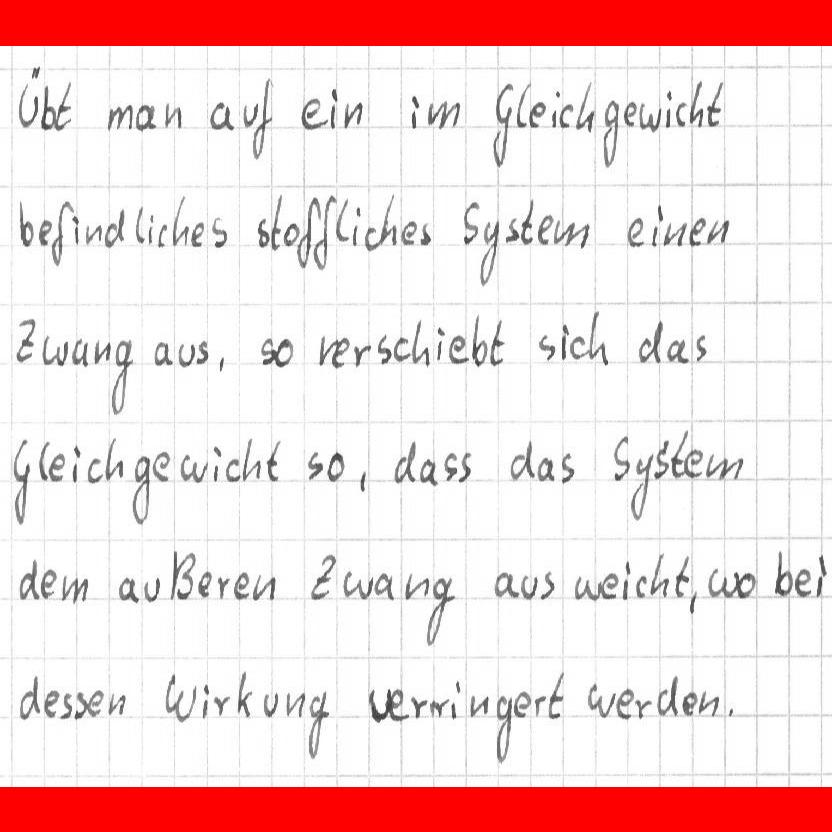Char: (423, 573, 456, 646), (108, 334, 134, 417), (251, 79, 275, 159), (304, 687, 330, 760), (489, 85, 513, 164), (164, 669, 194, 726), (295, 197, 319, 268), (10, 444, 31, 524), (307, 552, 338, 603), (479, 220, 501, 287), (129, 454, 150, 524), (17, 67, 39, 132), (52, 201, 73, 269), (493, 692, 513, 763), (312, 196, 331, 270), (586, 307, 609, 367), (170, 548, 195, 602), (630, 455, 651, 519), (601, 99, 620, 167), (552, 218, 590, 249), (637, 319, 663, 364), (509, 437, 535, 482), (13, 315, 36, 365), (17, 672, 40, 721), (393, 438, 418, 483), (704, 453, 741, 483), (585, 681, 614, 718), (574, 81, 595, 130), (378, 193, 397, 247), (427, 98, 458, 131), (657, 673, 679, 718), (546, 671, 566, 720), (170, 196, 189, 246), (772, 548, 791, 598), (704, 81, 724, 128), (610, 432, 629, 481), (668, 432, 687, 480), (104, 435, 124, 480), (18, 556, 38, 601), (241, 437, 261, 482), (234, 671, 253, 718), (410, 319, 429, 366), (343, 568, 370, 601), (104, 207, 125, 249), (56, 81, 74, 130), (471, 311, 487, 366), (180, 453, 207, 485), (60, 572, 87, 604), (674, 554, 692, 602), (368, 687, 392, 723), (650, 552, 669, 597), (107, 100, 132, 134), (17, 197, 34, 247), (39, 82, 56, 132), (269, 193, 283, 253), (460, 202, 479, 246), (707, 567, 732, 600), (489, 319, 506, 367), (299, 96, 322, 131), (403, 571, 429, 601), (42, 334, 67, 365), (573, 573, 599, 602), (208, 101, 233, 130), (494, 569, 518, 599), (252, 572, 276, 602), (688, 80, 704, 125), (373, 570, 397, 600), (265, 440, 282, 482), (389, 687, 409, 722), (706, 217, 730, 246), (683, 447, 704, 480), (615, 685, 635, 719), (334, 197, 349, 242), (814, 551, 829, 596), (330, 336, 351, 368), (317, 335, 338, 367), (152, 450, 172, 483), (39, 567, 58, 601), (161, 101, 183, 130), (141, 574, 163, 603), (515, 84, 529, 129), (448, 332, 467, 365), (326, 449, 345, 482), (735, 568, 755, 599), (640, 104, 662, 132), (521, 199, 535, 243), (275, 336, 293, 370), (285, 690, 306, 719), (209, 216, 228, 248), (134, 204, 148, 247), (468, 692, 491, 718), (135, 104, 156, 132), (697, 688, 718, 716), (648, 207, 662, 249), (343, 99, 363, 128), (627, 215, 645, 247), (794, 567, 813, 597), (117, 574, 136, 604), (78, 690, 97, 720), (106, 691, 126, 719), (652, 446, 668, 481), (688, 216, 706, 247), (82, 221, 103, 247), (559, 452, 576, 484), (538, 568, 555, 600), (48, 452, 66, 482), (664, 221, 684, 248), (152, 340, 172, 367), (537, 332, 555, 362), (600, 571, 619, 599), (666, 339, 688, 363), (233, 568, 250, 599), (375, 333, 392, 364), (258, 335, 275, 366), (89, 339, 108, 366), (70, 337, 86, 369), (44, 687, 61, 717), (420, 458, 438, 486), (37, 439, 49, 481), (353, 341, 373, 366), (262, 689, 278, 720), (255, 215, 270, 248), (177, 342, 196, 368), (518, 574, 537, 600), (536, 215, 553, 244), (195, 570, 212, 599), (306, 451, 323, 480), (211, 442, 223, 483), (199, 681, 212, 718), (408, 92, 421, 129), (328, 86, 339, 129), (529, 102, 547, 128), (693, 331, 708, 362), (401, 217, 417, 246), (224, 456, 241, 483), (392, 336, 409, 363), (241, 100, 258, 127), (635, 695, 653, 720), (215, 572, 231, 600), (569, 334, 586, 360), (281, 221, 298, 247), (537, 456, 554, 482), (361, 224, 378, 250), (428, 697, 448, 719), (408, 695, 427, 718), (442, 453, 457, 482), (531, 691, 546, 720), (505, 217, 521, 244), (549, 86, 559, 129), (451, 680, 462, 719), (86, 459, 103, 484), (190, 219, 205, 247), (458, 452, 472, 482), (435, 325, 446, 363), (37, 216, 50, 248), (514, 693, 531, 717), (557, 324, 568, 361), (418, 219, 433, 246), (623, 100, 638, 127), (681, 689, 697, 714), (71, 447, 82, 483), (560, 102, 574, 130), (622, 562, 632, 601), (351, 208, 361, 246), (663, 88, 672, 130), (154, 220, 168, 247), (196, 340, 210, 367), (61, 692, 76, 717), (214, 693, 229, 717), (145, 213, 155, 247), (676, 100, 688, 128), (635, 573, 648, 598), (686, 590, 699, 614), (71, 214, 80, 246), (357, 469, 368, 493), (216, 353, 228, 374), (726, 702, 738, 718)
